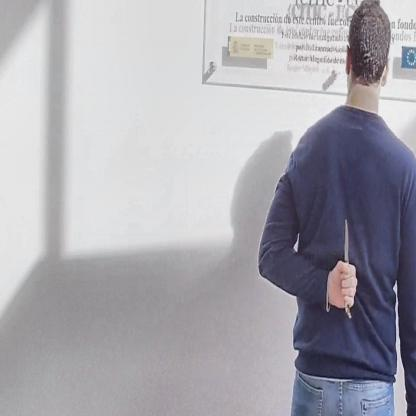knife: (340, 209, 358, 321)
